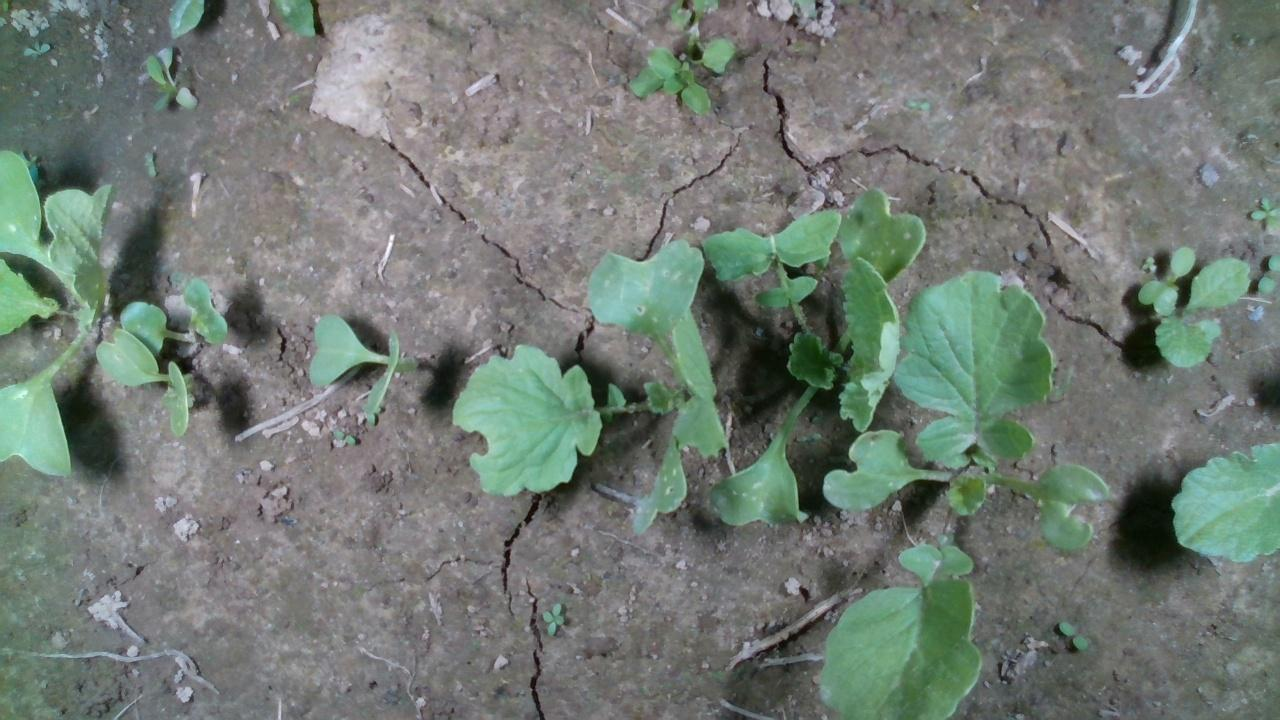weed: (537, 599, 565, 637), (1056, 618, 1088, 650), (21, 36, 51, 58), (331, 426, 356, 446), (142, 148, 157, 179)
